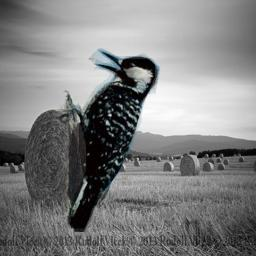Woodpecker: (54, 48, 163, 232)
